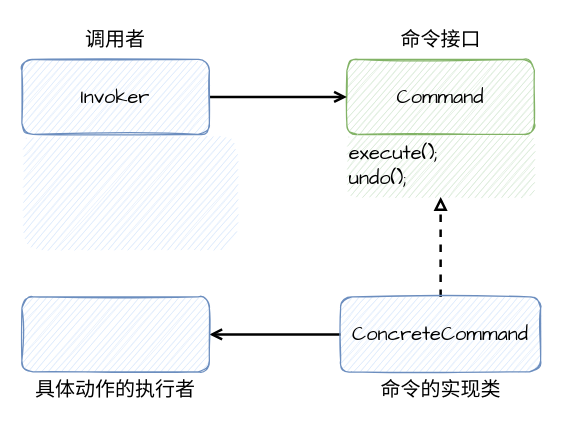
This 563x430 diagram has some shape labels left out. The centre of each missing label's shape, as x and y in pixels:
"Receiver" belongs at [115,334].
"setCommand(); doAnything() { command.execute(); }" belongs at [127,190].
